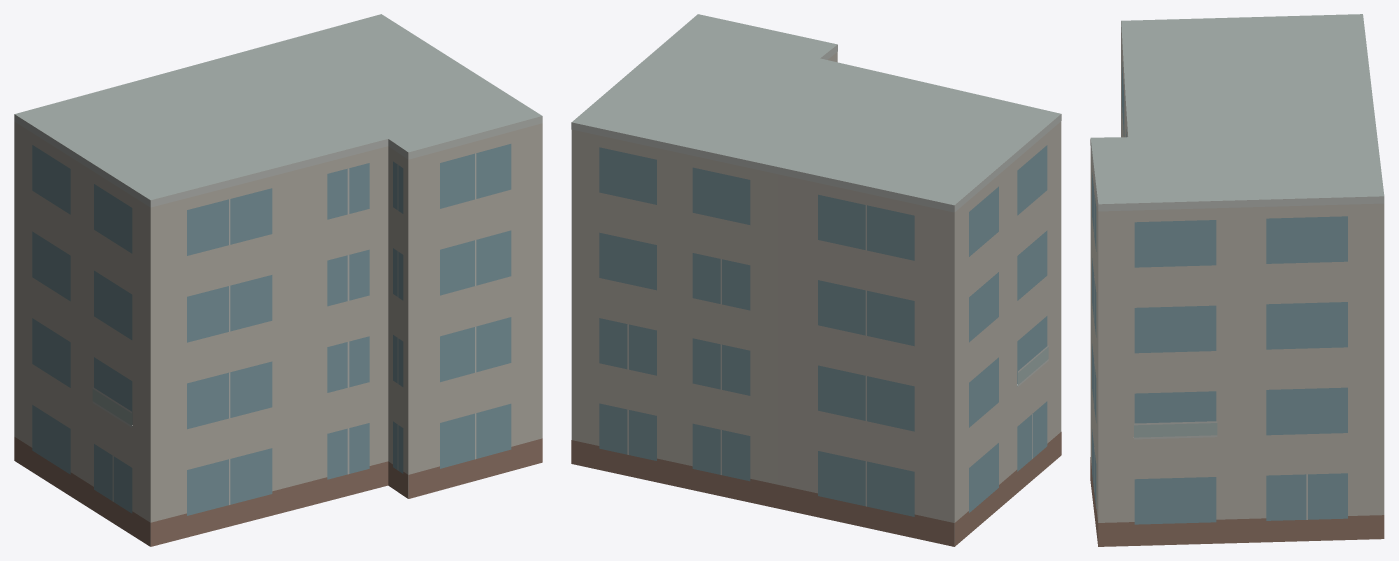
Rendered from survey-upis-32924645.glb.
3 views of the same model, side by side, from view 1: azimuth 30°, elevation 25°; view 2: azimuth 150°, elevation 25°; view 3: azimuth 270°, elevation 25° (orthographic).
Visible parts, largest first — view 1: survey-upis-32924645.tmp; view 2: survey-upis-32924645.tmp; view 3: survey-upis-32924645.tmp.
Boxes of the visible parts, x1,y1,x2,y2 form: survey-upis-32924645.tmp: (14, 14, 542, 546); survey-upis-32924645.tmp: (571, 14, 1061, 546); survey-upis-32924645.tmp: (1090, 14, 1384, 546).
Size of the model in its own units: 13.82 by 11.6 by 9.03.
